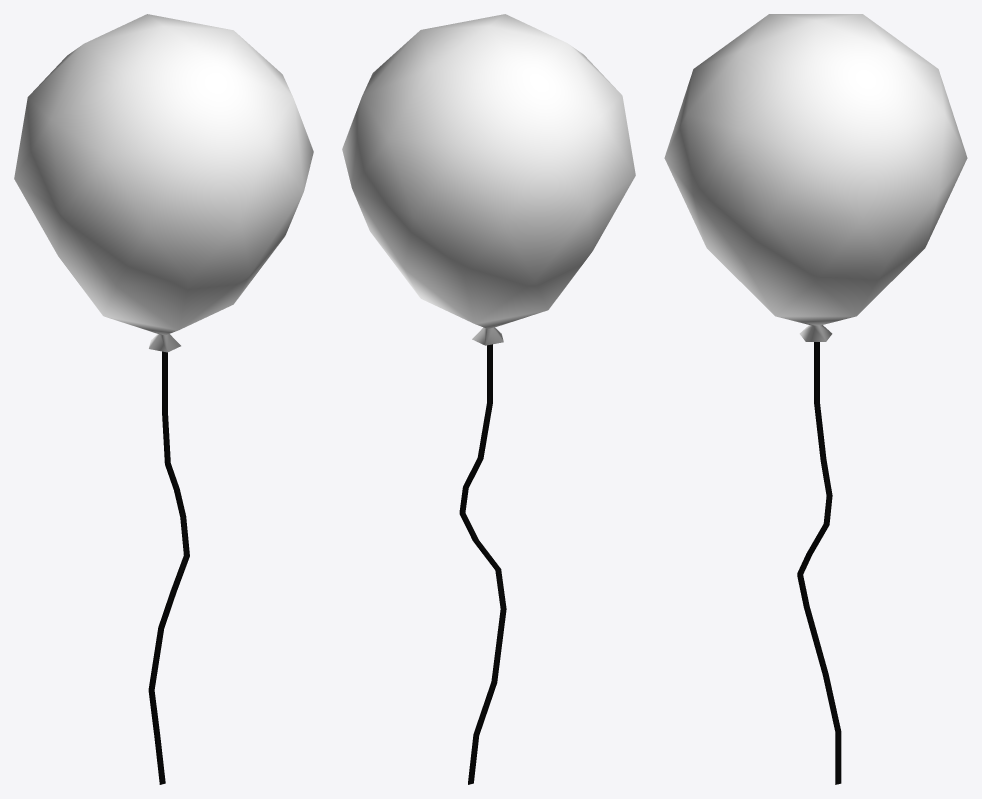
Rendered from balloon.obj.
3 views of the same model, side by side, from view 1: azimuth 30°, elevation 25°; view 2: azimuth 150°, elevation 25°; view 3: azimuth 270°, elevation 25° (orthographic). The views are drawn at different scales.
Visible parts, largest first — view 1: Icosphere, Circle; view 2: Icosphere, Circle; view 3: Icosphere, Circle.
Boxes of the visible parts, x1,y1,x2,y2 form: Icosphere: (14,14,313,352); Circle: (148,351,189,784); Icosphere: (342,14,635,345); Circle: (459,344,506,784); Icosphere: (664,14,967,341); Circle: (797,342,841,784).
Bounding box in the file's own units: 1.9 × 5.52 × 2.
1 material, 1 textured.
